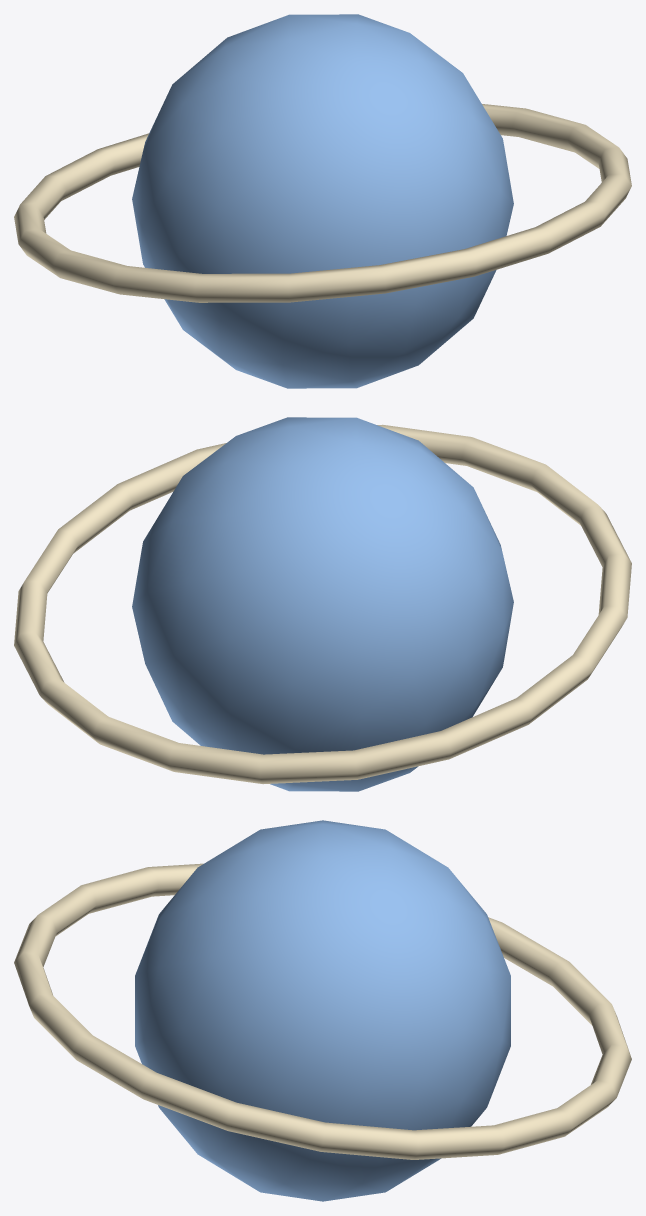
The model's file is planet.glb.
The picture shows the model from 3 angles, top to bottom: view 1: azimuth 30°, elevation 25°; view 2: azimuth 150°, elevation 25°; view 3: azimuth 270°, elevation 25°; orthographic projection.
Parts seen in each view (by area): view 1: planet; view 2: planet; view 3: planet.
Boxes of the visible parts, box(x1,y1,x2,y2) form: planet: box(14, 14, 631, 388); planet: box(14, 417, 631, 791); planet: box(14, 820, 631, 1201).
Size of the model in its own units: 2.94 by 1.76 by 2.9.
